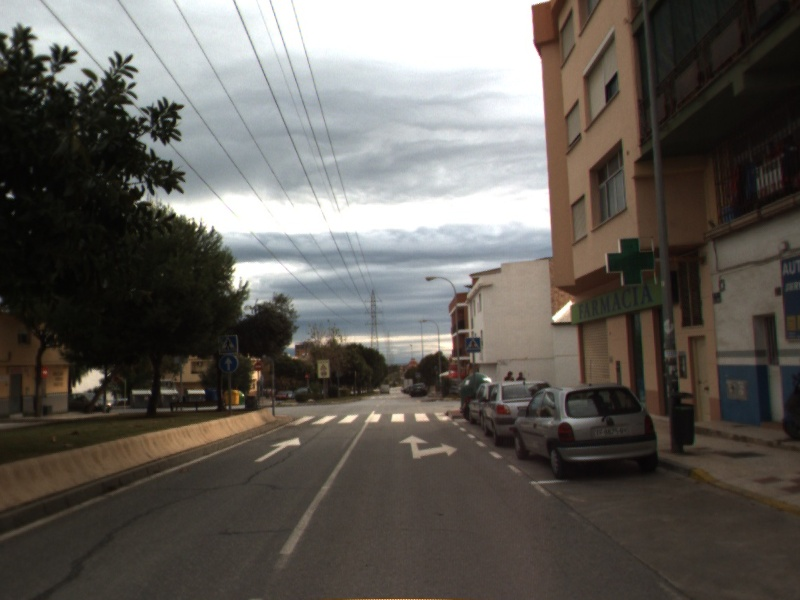STRAIGHT: (252, 435, 303, 464)
STRAIGHT_RIGHT: (397, 433, 459, 461)
